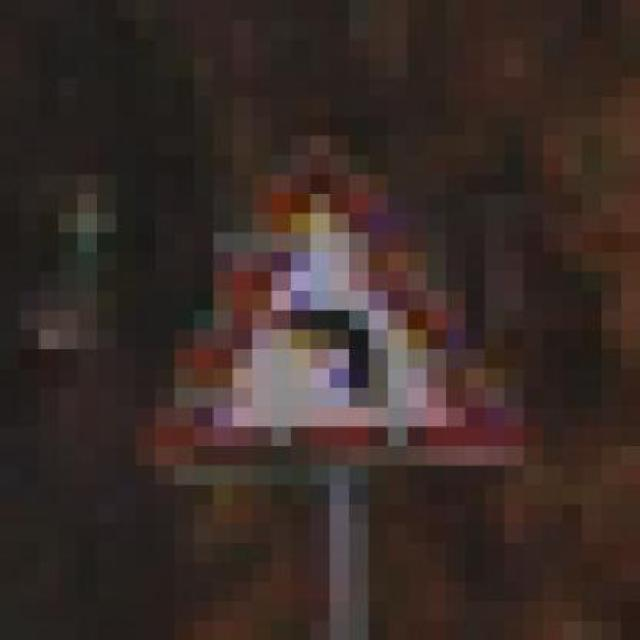Dangerous Left Curve Ahead: (116, 116, 582, 504)
